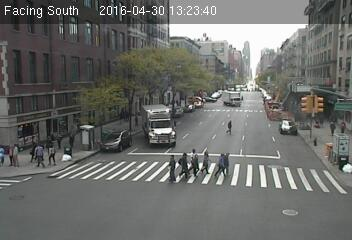neg: (32, 101, 60, 139), (113, 134, 140, 169), (24, 186, 49, 218), (177, 68, 201, 100), (56, 168, 77, 196), (82, 122, 103, 149), (262, 120, 282, 148), (42, 60, 62, 88), (82, 46, 102, 73), (100, 190, 120, 217), (124, 94, 143, 120), (110, 44, 129, 69), (259, 197, 278, 221), (322, 134, 340, 159), (257, 83, 275, 107), (302, 96, 319, 120), (209, 186, 226, 209), (304, 48, 321, 70), (232, 36, 249, 58), (143, 193, 160, 215), (284, 197, 300, 219), (298, 165, 314, 186), (273, 40, 288, 61), (149, 38, 164, 58), (216, 89, 230, 108), (63, 145, 75, 161)
pos: (184, 143, 206, 172), (173, 147, 193, 174), (160, 153, 179, 178), (216, 151, 234, 176), (200, 147, 218, 172), (32, 144, 48, 165), (46, 144, 58, 161), (226, 118, 238, 134)
